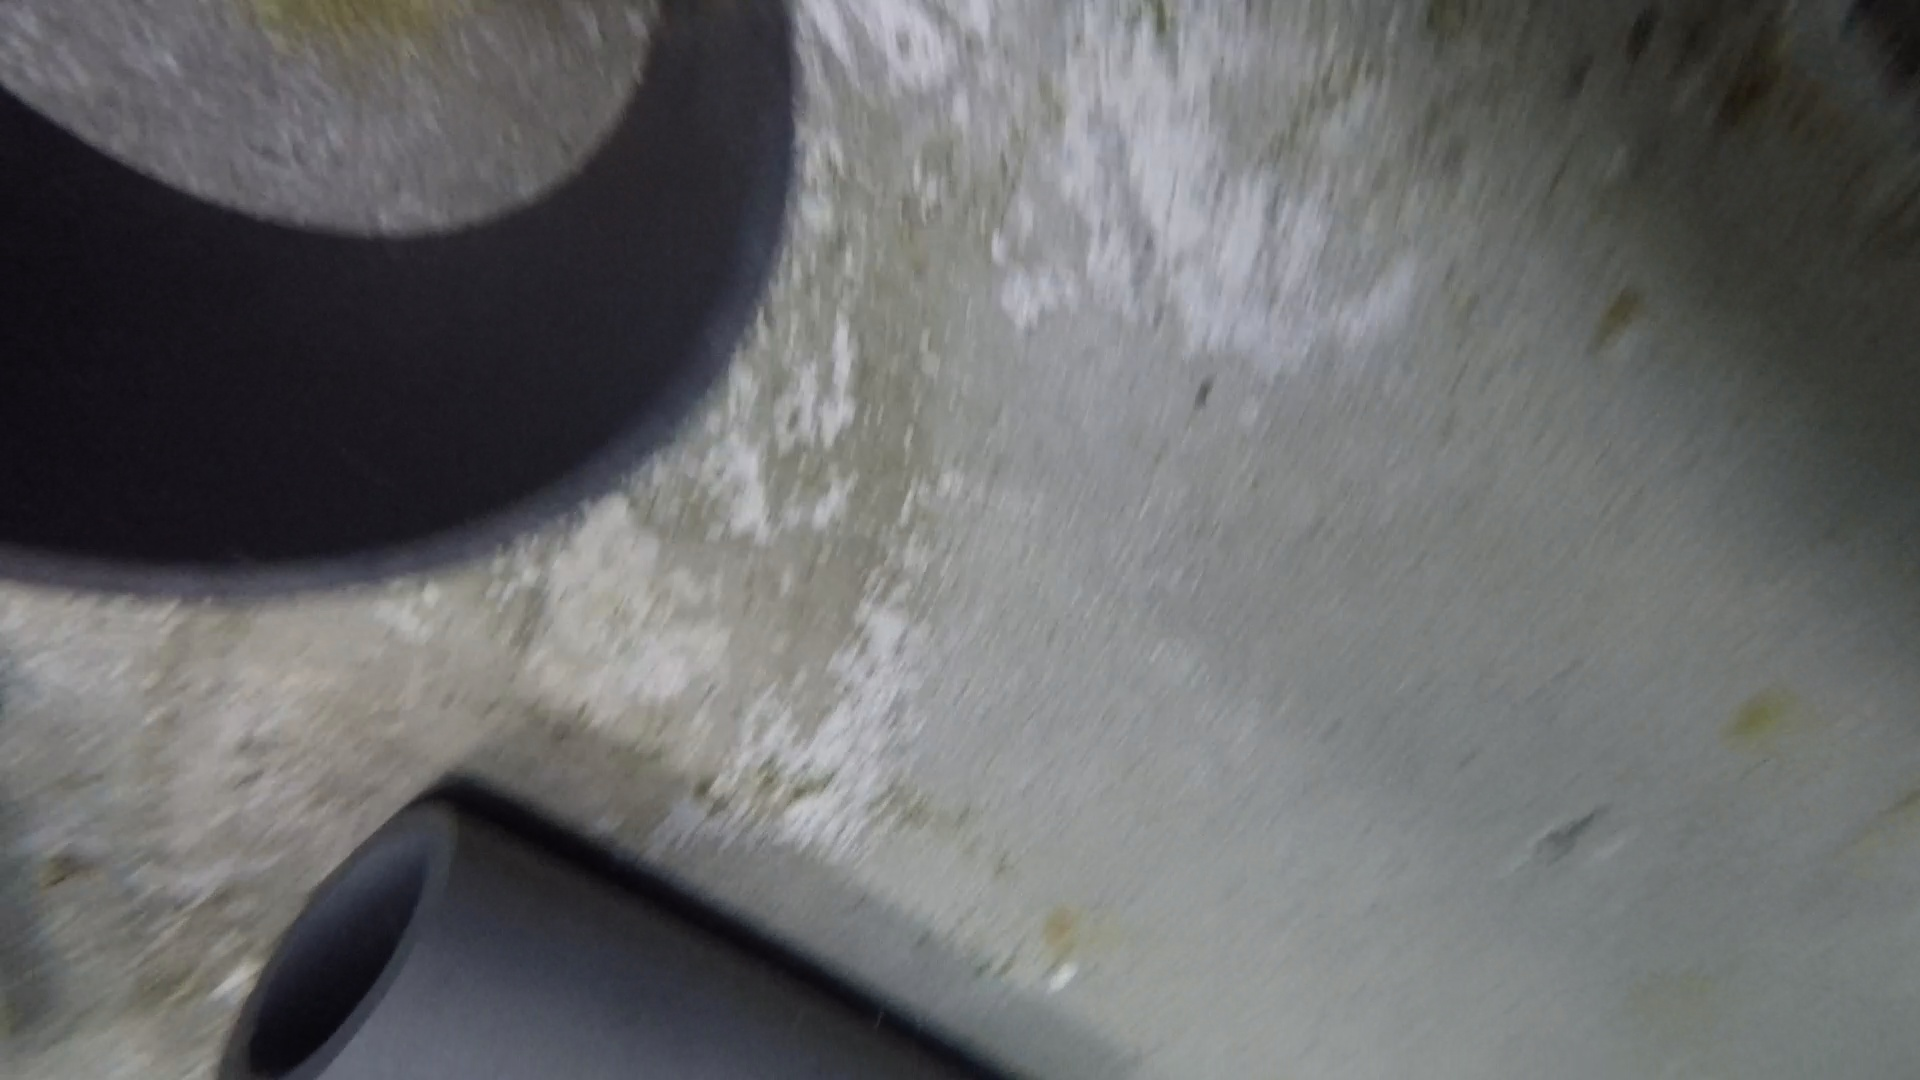pipe: (1, 1, 793, 585), (214, 793, 1009, 1080)
